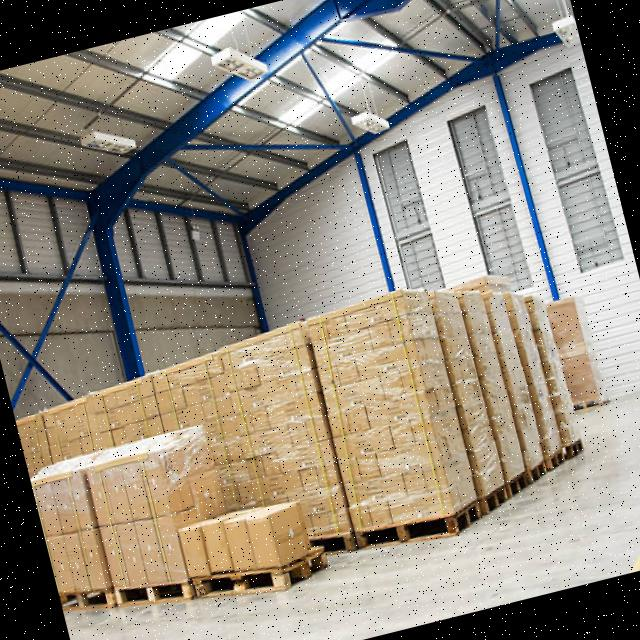Wooden-Pallets: (188, 536, 335, 608), (353, 494, 481, 559), (111, 572, 193, 618), (479, 475, 514, 522)
